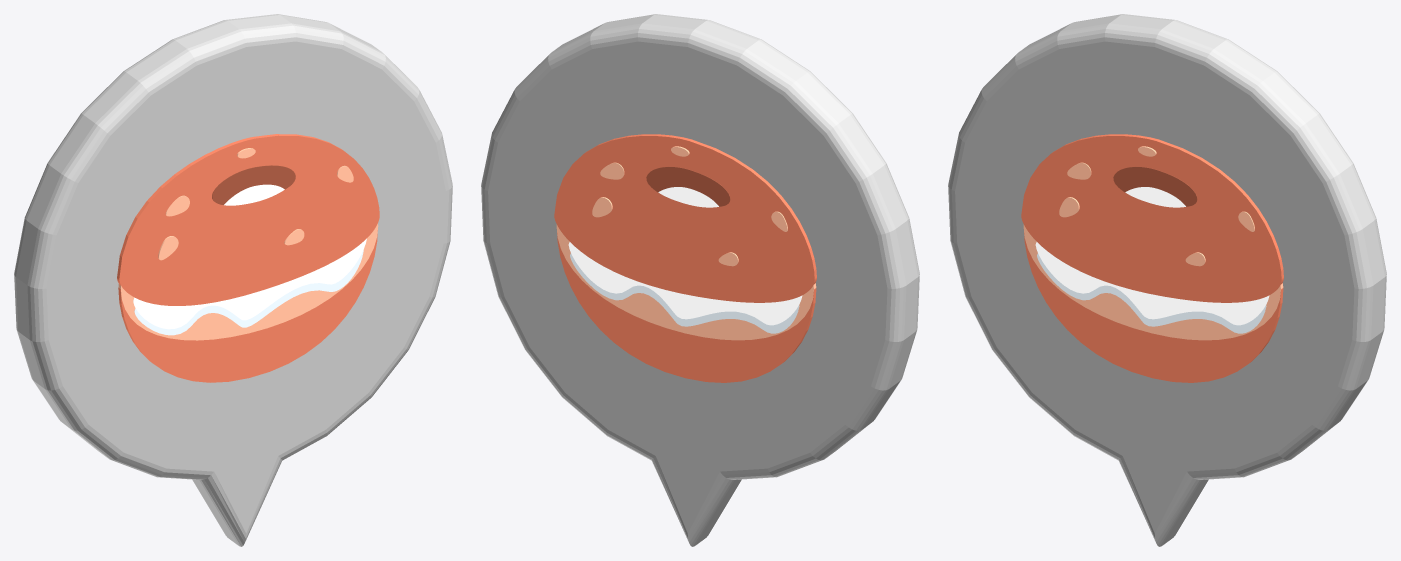
The model's file is bagel.glb.
The picture shows the model from 3 angles, left to right: view 1: azimuth 30°, elevation 25°; view 2: azimuth 150°, elevation 25°; view 3: azimuth 330°, elevation 25°; orthographic projection.
Parts seen in each view (by area): view 1: EmotionBubble; view 2: EmotionBubble; view 3: EmotionBubble.
Boxes of the visible parts, bbox=[...] form: EmotionBubble: bbox=[14, 14, 452, 546]; EmotionBubble: bbox=[481, 14, 919, 546]; EmotionBubble: bbox=[948, 14, 1386, 546].
Bounding box in the file's own units: 5.29 × 6.16 × 0.736.
